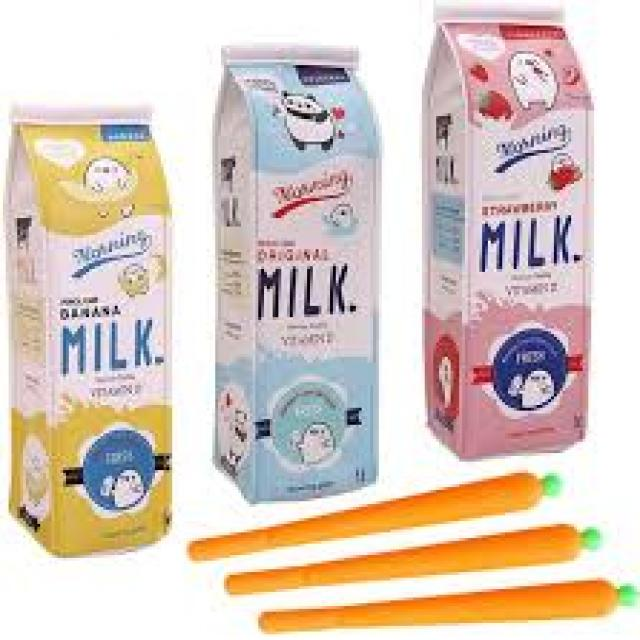non_white_jug: (406, 2, 604, 460), (201, 41, 387, 497), (7, 77, 182, 555)
